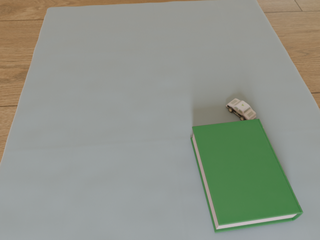book: (191, 119, 303, 233)
toy_car: (226, 99, 256, 121)
